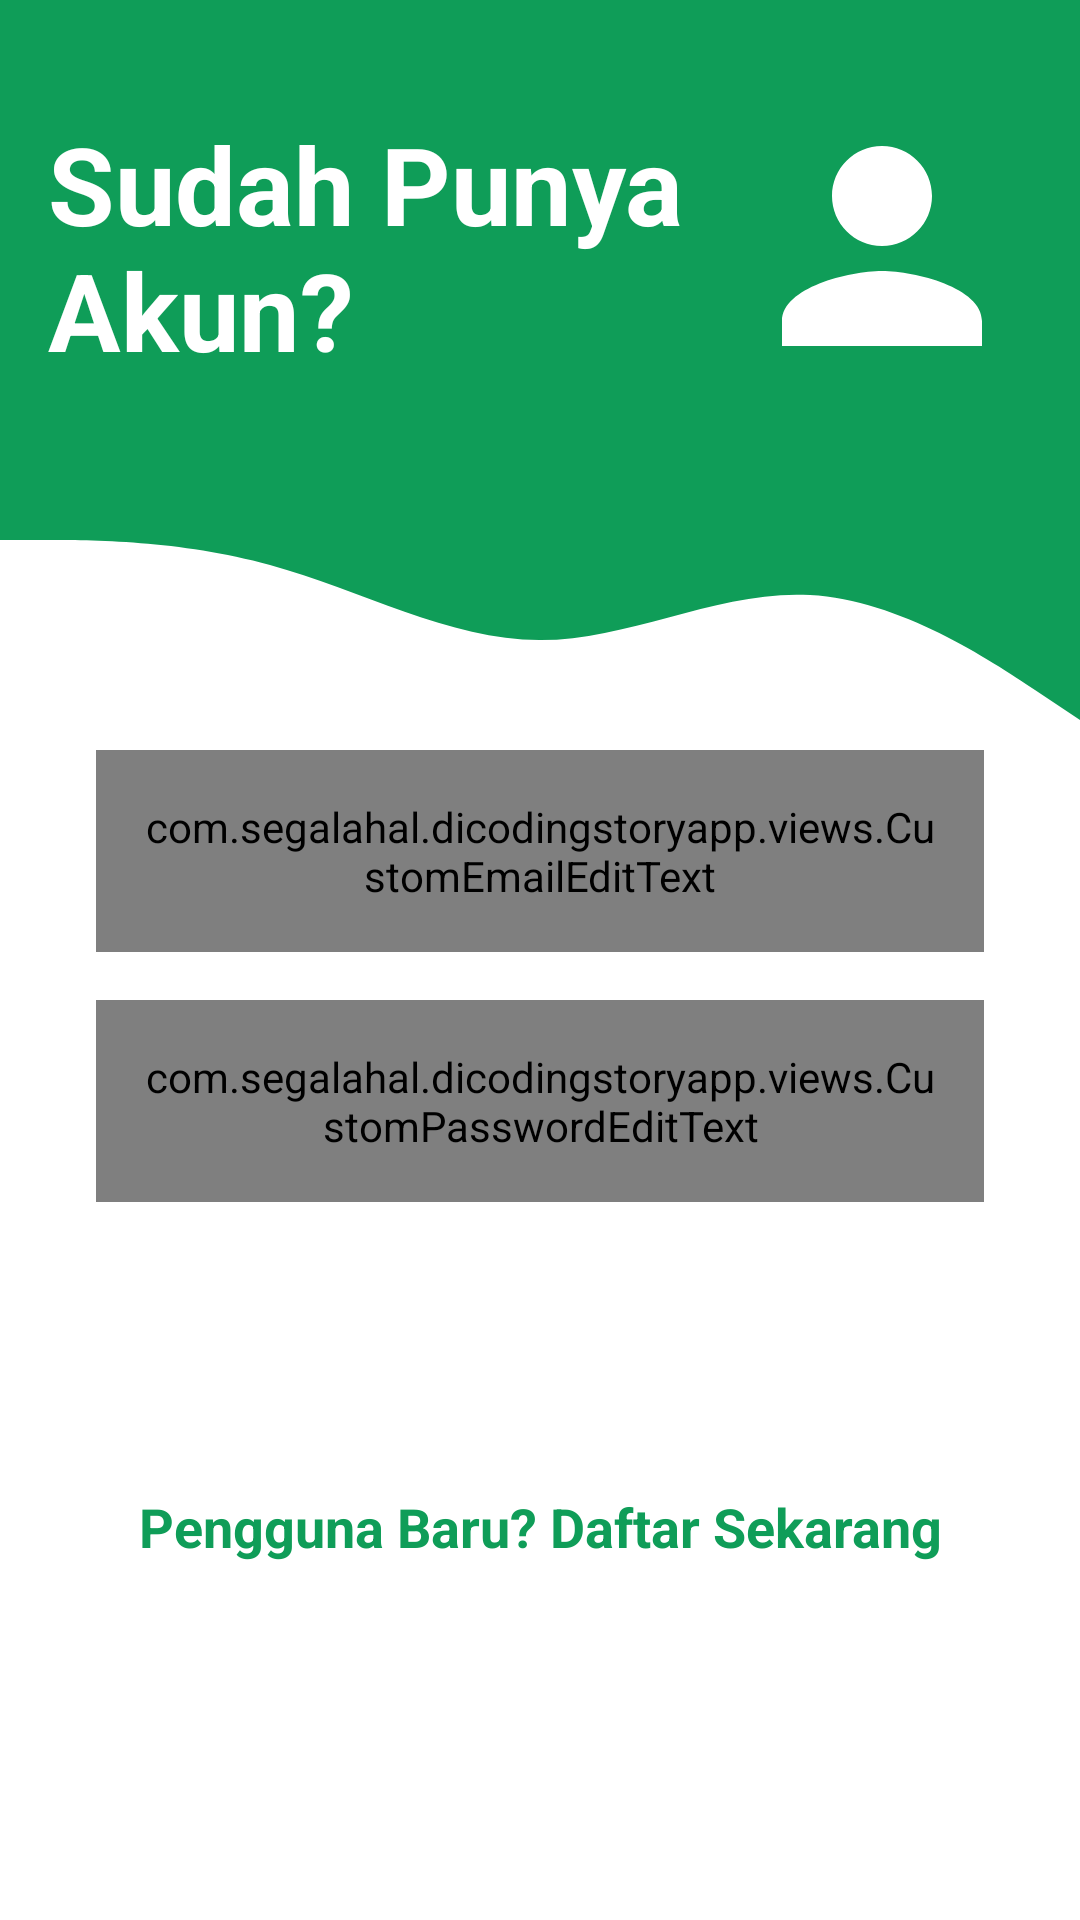

Icons on this 1080×1920 Android screen, each with the point to tap as point (x, y):
person: point (882, 246)
